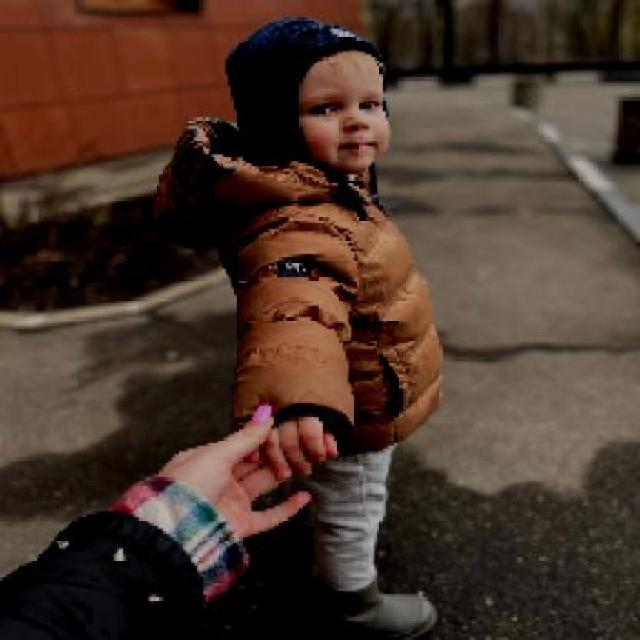child: (151, 14, 446, 637)
